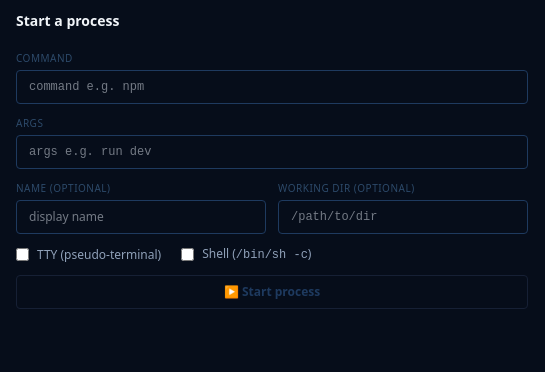
Test: ProcessStartForm › shows inline error and keeps form open on failure
Type "does-not-exist" into the field with placeholder "command e.g. npm". click: (272, 87)
box: [16, 70, 528, 104]
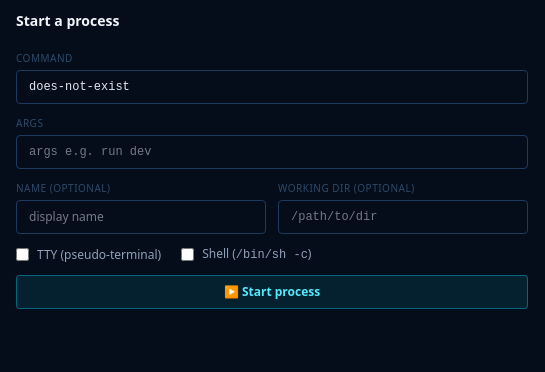
Click the submit button. click: (272, 292)
box: [16, 275, 528, 309]
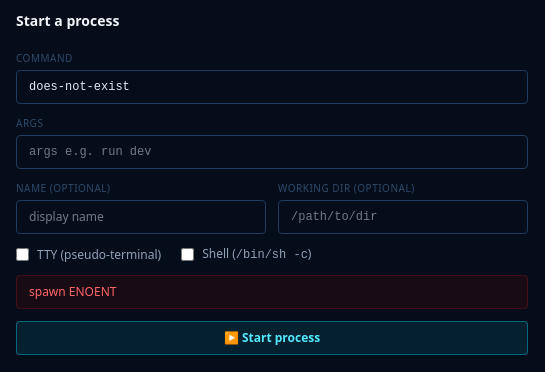
Expected: the text "spawn ENOENT" is shown, [16, 275, 528, 309]
